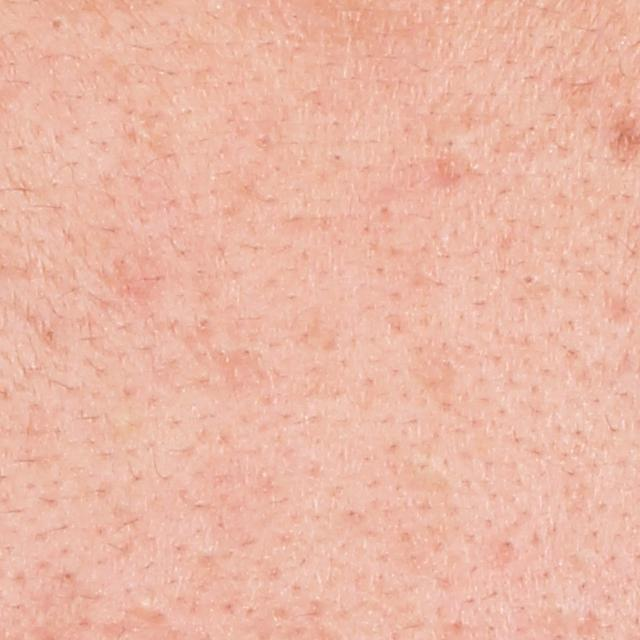comedo: (45, 10, 71, 37), (194, 309, 212, 332), (517, 271, 536, 286)
